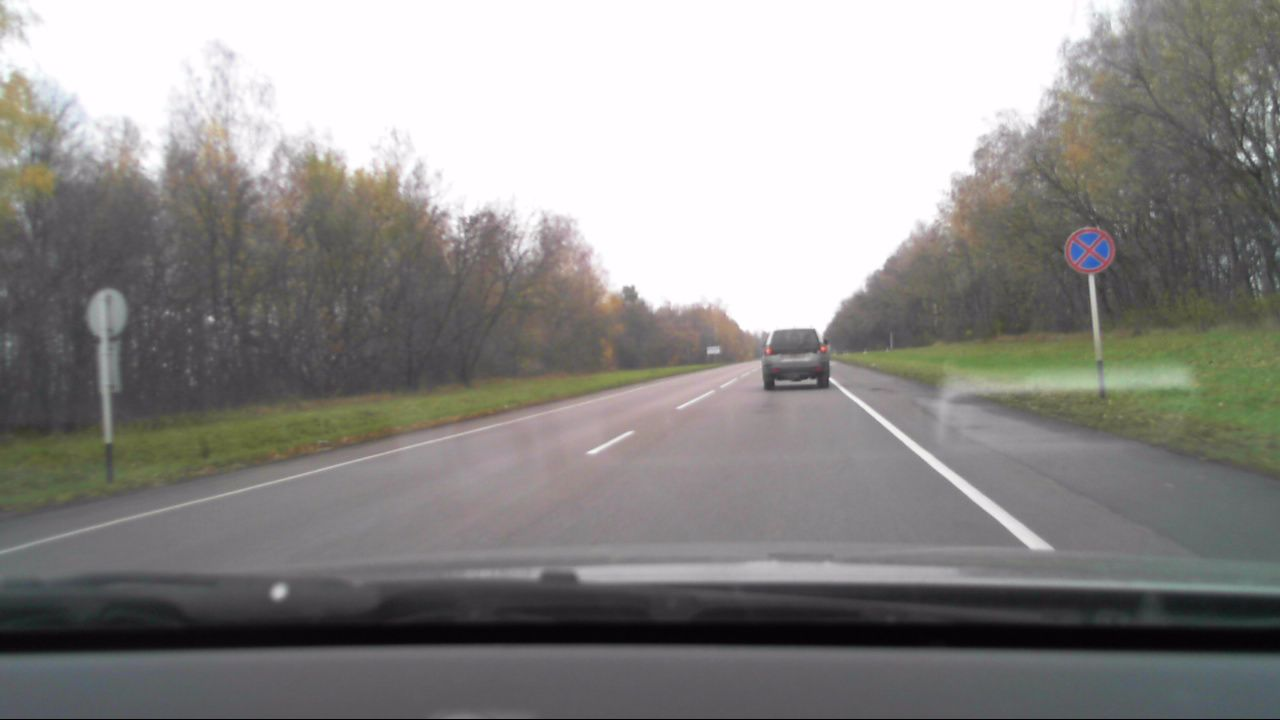No Parking: (1062, 225, 1120, 278)
